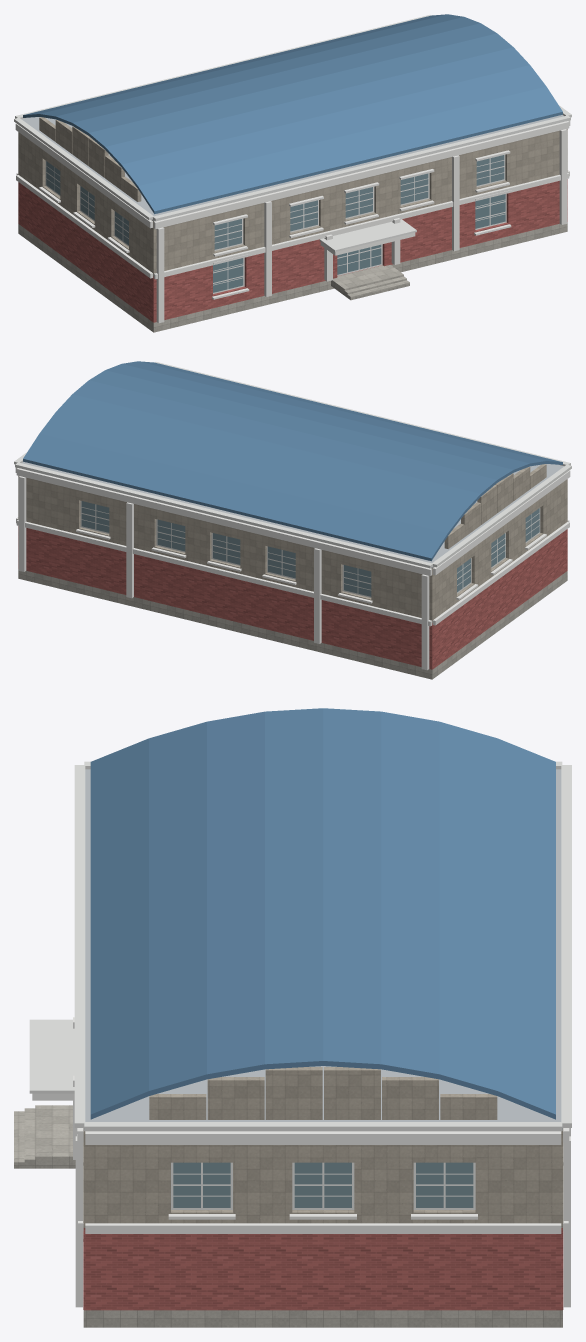
3 views of the same model, one above another, from view 1: azimuth 30°, elevation 25°; view 2: azimuth 150°, elevation 25°; view 3: azimuth 270°, elevation 25° (orthographic). The views are drawn at different scales.
Parts seen in each view (by area): view 1: hall__archroof, hall__hallstone, hall__redbrick, hall__band, hall__cap, hall__stone, hall__clerestoryglass, hall__frame, hall__glass, hall__sill, hall__metalroof, hall__stair-front (+1 smaller); view 2: hall__archroof, hall__redbrick, hall__hallstone, hall__band, hall__stone, hall__clerestoryglass, hall__cap, hall__metalroof, hall__frame, hall__sill; view 3: hall__archroof, hall__hallstone, hall__redbrick, hall__cap, hall__band, hall__stone, hall__metalroof, hall__clerestoryglass, hall__frame, hall__stair-front, hall__threshold-front, hall__sill.
Boxes of the visible parts, x1,y1,x2,y2 form: hall__archroof: [23, 14, 562, 214]; hall__hallstone: [18, 117, 567, 275]; hall__redbrick: [18, 179, 567, 322]; hall__band: [15, 120, 570, 323]; hall__cap: [14, 15, 571, 251]; hall__stone: [18, 222, 567, 332]; hall__clerestoryglass: [46, 155, 504, 249]; hall__frame: [45, 154, 506, 293]; hall__glass: [213, 194, 505, 292]; hall__sill: [39, 150, 511, 299]; hall__metalroof: [22, 115, 563, 221]; hall__stair-front: [341, 272, 409, 300]; hall__archroof: [23, 361, 562, 561]; hall__redbrick: [18, 526, 567, 669]; hall__hallstone: [18, 464, 567, 622]; hall__band: [15, 467, 570, 670]; hall__stone: [18, 569, 567, 679]; hall__clerestoryglass: [81, 501, 539, 596]; hall__cap: [14, 362, 571, 568]; hall__metalroof: [22, 462, 563, 568]; hall__frame: [80, 501, 540, 597]; hall__sill: [76, 529, 546, 603]; hall__archroof: [90, 708, 555, 1119]; hall__hallstone: [83, 1067, 563, 1227]; hall__redbrick: [83, 1228, 563, 1310]; hall__cap: [29, 761, 571, 1131]; hall__band: [32, 1017, 570, 1307]; hall__stone: [83, 1310, 562, 1327]; hall__metalroof: [83, 769, 562, 1130]; hall__clerestoryglass: [173, 1162, 473, 1207]; hall__frame: [171, 1162, 475, 1209]; hall__stair-front: [14, 1105, 45, 1168]; hall__threshold-front: [46, 1105, 75, 1168]; hall__sill: [77, 1134, 563, 1241].
Size of the model in its own units: 30.64 by 10.35 by 19.79.
Materials: 11 (3 with a texture image).
